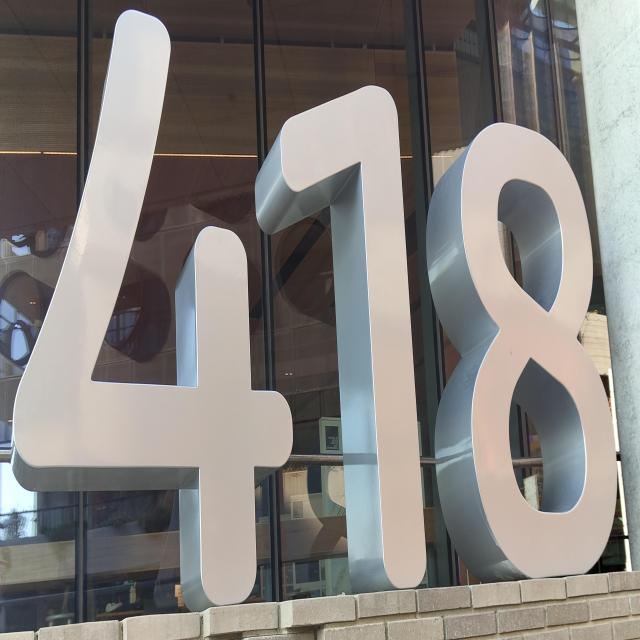character: (9, 6, 300, 616), (273, 78, 435, 598), (456, 116, 622, 587)
